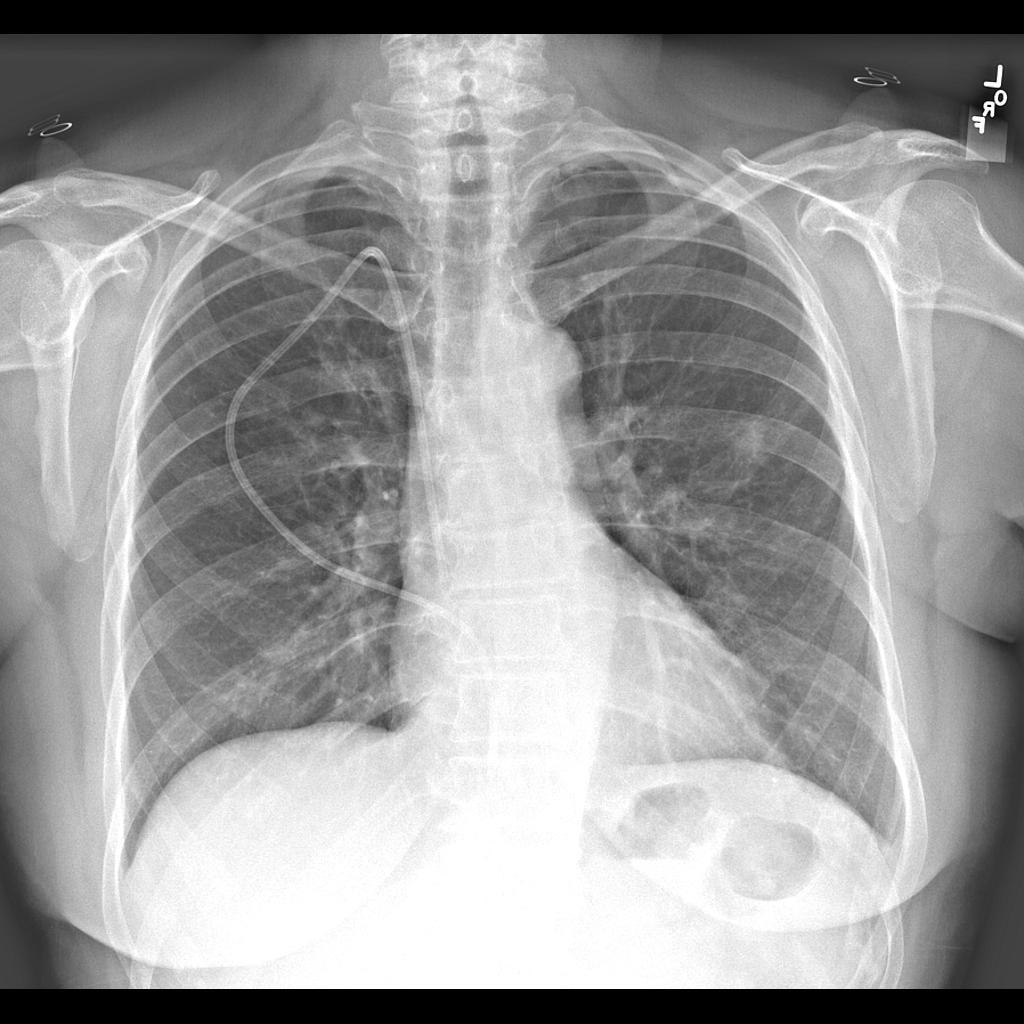Nodule: (732, 422, 780, 468)
